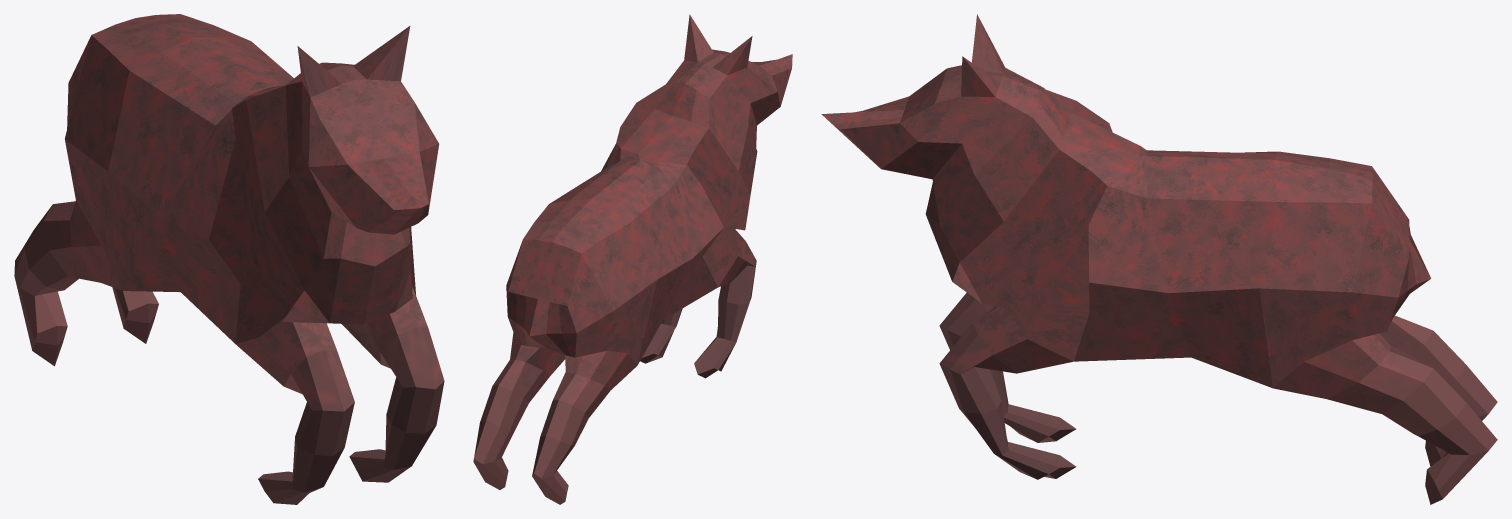
The model's file is piesblend_000011.obj.
3 renders of one model, left to right at view 1: azimuth 30°, elevation 25°; view 2: azimuth 150°, elevation 25°; view 3: azimuth 270°, elevation 25°, orthographic. The views are drawn at different scales.
Parts seen in each view (by area): view 1: Cube; view 2: Cube; view 3: Cube.
Boxes of the visible parts, x1,y1,x2,y2 form: Cube: [14, 14, 444, 504]; Cube: [473, 14, 792, 504]; Cube: [821, 14, 1497, 504].
Size of the model in its own units: 2.56 by 6.87 by 9.49.
Materials: 1 (1 with a texture image).
